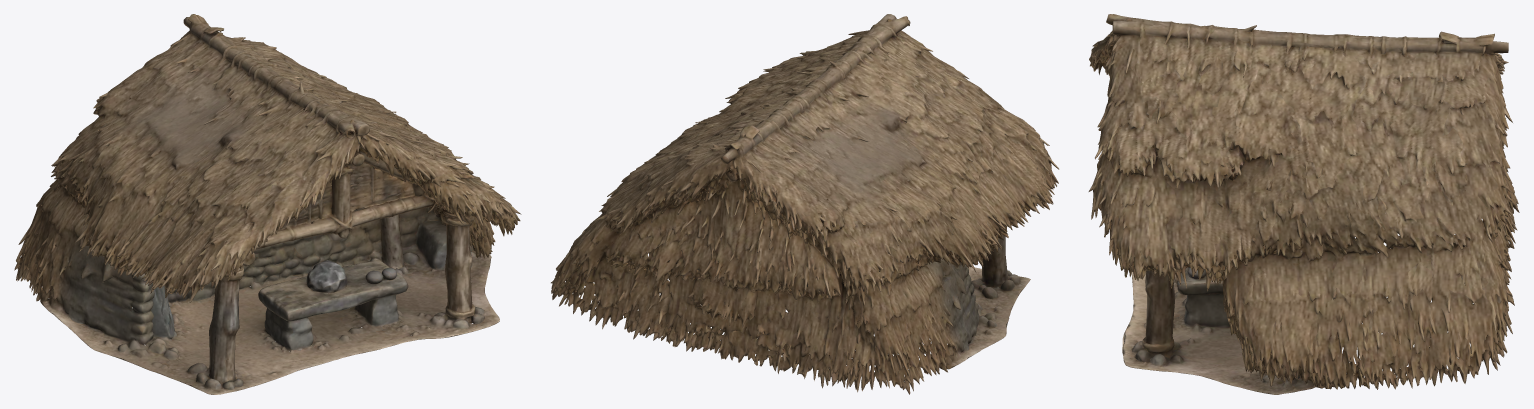
Rendered from mason.glb.
3 renders of one model, left to right at view 1: azimuth 30°, elevation 25°; view 2: azimuth 150°, elevation 25°; view 3: azimuth 270°, elevation 25°, orthographic. The views are drawn at different scales.
Visible parts, largest first — view 1: world; view 2: world; view 3: world.
Boxes of the visible parts, left/top/right/bottom form: world: left=14, top=14, right=521, bottom=394; world: left=551, top=14, right=1059, bottom=394; world: left=1088, top=14, right=1519, bottom=394.
Bounding box in the file's own units: 0.9934 × 0.5782 × 0.826.
1 material, 1 textured.
